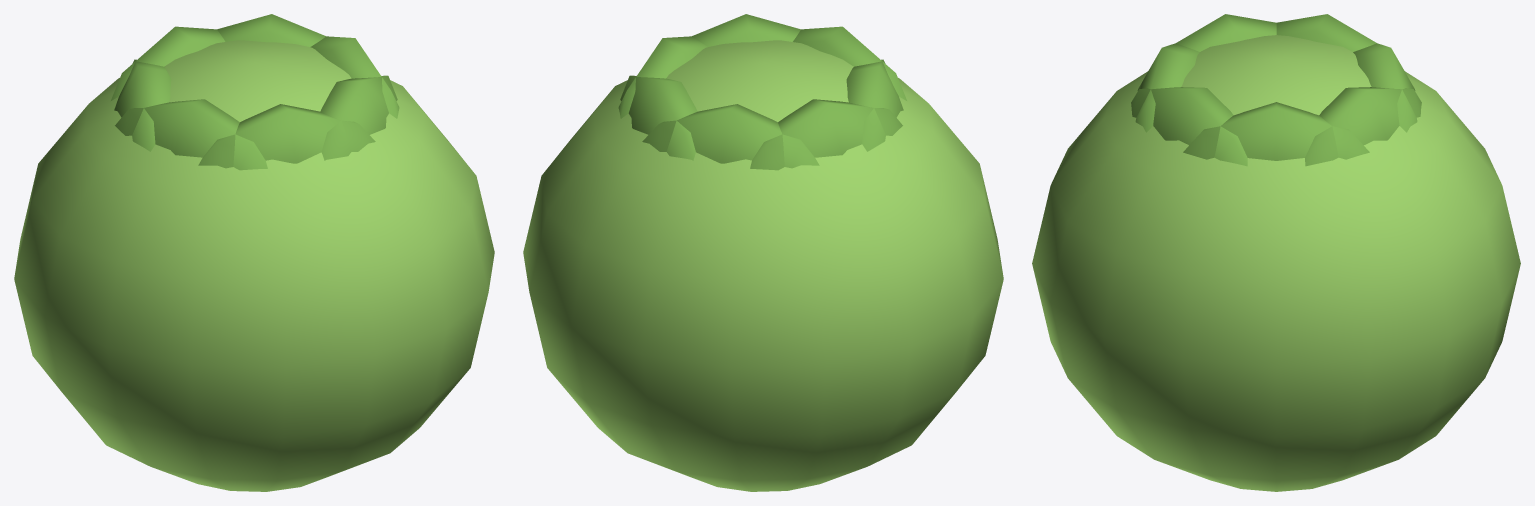
Rendered from LettuceItem.fbx.
3 renders of one model, left to right at view 1: azimuth 30°, elevation 25°; view 2: azimuth 150°, elevation 25°; view 3: azimuth 270°, elevation 25°, orthographic.
Parts seen in each view (by area): view 1: Heart.001, Leaf.091, Leaf.090, Leaf.092, Leaf.089, Leaf.088, Leaf.087, Leaf.086; view 2: Heart.001, Leaf.088, Leaf.089, Leaf.087, Leaf.090, Leaf.091, Leaf.092, Leaf.086; view 3: Heart.001, Leaf.086, Leaf.087, Leaf.092, Leaf.088, Leaf.091, Leaf.089, Leaf.090.
Boxes of the visible parts, x1,y1,x2,y2 form: Heart.001: (14,40,494,491); Leaf.091: (198,104,375,168); Leaf.090: (115,99,267,170); Leaf.092: (320,75,397,160); Leaf.089: (114,59,171,151); Leaf.088: (111,26,225,100); Leaf.087: (217,14,325,46); Leaf.086: (310,36,399,118); Heart.001: (523,40,1003,491); Leaf.088: (642,104,819,168); Leaf.089: (750,99,902,170); Leaf.087: (620,75,697,160); Leaf.090: (846,59,903,151); Leaf.091: (793,26,906,100); Leaf.092: (692,14,800,46); Leaf.086: (618,36,707,118); Heart.001: (1032,35,1520,491); Leaf.086: (1183,102,1369,160); Leaf.087: (1305,87,1421,166); Leaf.092: (1131,87,1247,166); Leaf.088: (1353,43,1417,132); Leaf.091: (1135,43,1199,132); Leaf.089: (1276,14,1376,51); Leaf.090: (1176,14,1276,51).
Size of the model in its own units: 0.13 by 0.1201 by 0.13.
